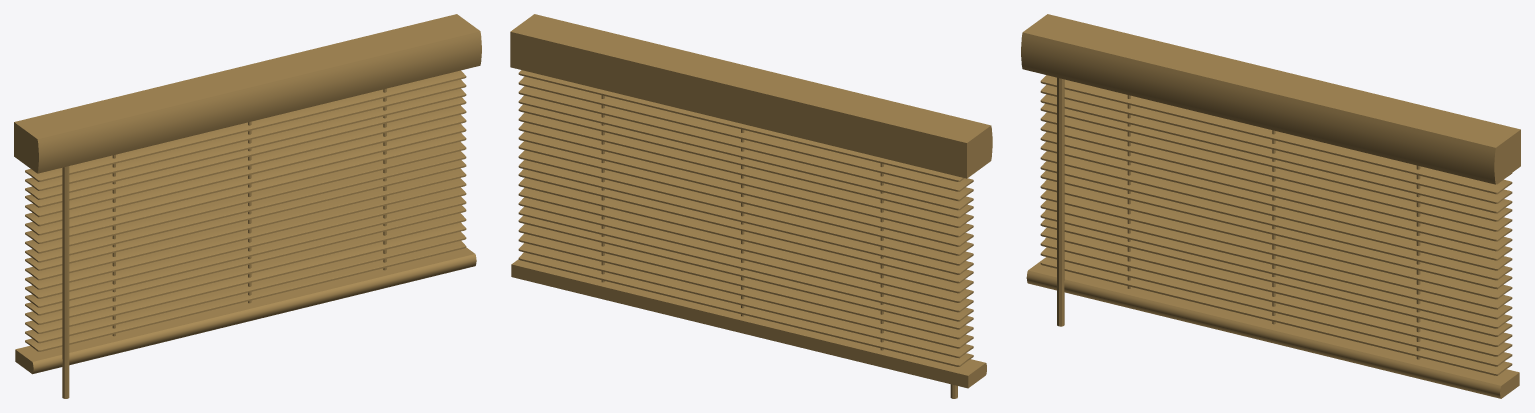
File: Curtain.fbx
The picture shows the model from 3 angles, left to right: view 1: azimuth 30°, elevation 25°; view 2: azimuth 150°, elevation 25°; view 3: azimuth 330°, elevation 25°; orthographic projection. The views are drawn at different scales.
Visible parts, largest first — view 1: RB_Top, RB_Bottom, RB_Plank_16, RB_Plank_39, RB_Plank_37, RB_Plank_35, RB_Plank_34, RB_Plank_23, RB_Plank_30, RB_Plank_15, RB_Plank_45, RB_Plank_14 (+12 smaller); view 2: RB_Top, RB_Bottom, RB_Plank_16, RB_Plank_35, RB_Plank_18, RB_Plank_34, RB_Plank_37, RB_Plank_39, RB_Plank_30, RB_Plank_23, RB_Plank_14, RB_Plank_33 (+12 smaller); view 3: RB_Top, RB_Bottom, RB_Plank_16, RB_Plank_34, RB_Plank_37, RB_Plank_39, RB_Plank_35, RB_Plank_30, RB_Plank_23, RB_Plank_33, RB_Plank_14, RB_Plank_45 (+12 smaller).
Part boxes in pixels (x1=…): RB_Top: x1=14, y1=14, x2=481, y2=173; RB_Bottom: x1=15, y1=247, x2=476, y2=374; RB_Plank_16: x1=25, y1=168, x2=466, y2=280; RB_Plank_39: x1=25, y1=105, x2=466, y2=217; RB_Plank_37: x1=25, y1=178, x2=466, y2=289; RB_Plank_35: x1=25, y1=213, x2=466, y2=324; RB_Plank_34: x1=25, y1=141, x2=466, y2=253; RB_Plank_23: x1=25, y1=123, x2=466, y2=235; RB_Plank_30: x1=25, y1=231, x2=466, y2=343; RB_Plank_15: x1=25, y1=79, x2=466, y2=190; RB_Plank_45: x1=25, y1=222, x2=466, y2=333; RB_Plank_14: x1=25, y1=187, x2=466, y2=298; RB_Top: x1=510, y1=14, x2=992, y2=178; RB_Bottom: x1=511, y1=259, x2=986, y2=388; RB_Plank_16: x1=518, y1=178, x2=973, y2=293; RB_Plank_35: x1=518, y1=224, x2=973, y2=339; RB_Plank_18: x1=518, y1=76, x2=973, y2=191; RB_Plank_34: x1=518, y1=150, x2=973, y2=265; RB_Plank_37: x1=518, y1=187, x2=973, y2=302; RB_Plank_39: x1=518, y1=112, x2=973, y2=227; RB_Plank_30: x1=518, y1=243, x2=973, y2=358; RB_Plank_23: x1=518, y1=132, x2=973, y2=246; RB_Plank_14: x1=518, y1=197, x2=973, y2=312; RB_Plank_33: x1=518, y1=122, x2=973, y2=237; RB_Top: x1=1021, y1=14, x2=1520, y2=184; RB_Bottom: x1=1026, y1=258, x2=1519, y2=398; RB_Plank_16: x1=1040, y1=180, x2=1512, y2=299; RB_Plank_34: x1=1040, y1=151, x2=1512, y2=270; RB_Plank_37: x1=1040, y1=190, x2=1512, y2=309; RB_Plank_39: x1=1040, y1=112, x2=1512, y2=231; RB_Plank_35: x1=1040, y1=227, x2=1512, y2=346; RB_Plank_30: x1=1040, y1=247, x2=1512, y2=366; RB_Plank_23: x1=1040, y1=132, x2=1512, y2=251; RB_Plank_33: x1=1040, y1=122, x2=1512, y2=241; RB_Plank_14: x1=1040, y1=200, x2=1512, y2=319; RB_Plank_45: x1=1040, y1=237, x2=1512, y2=356.
Bounding box in the file's own units: 131 × 75.94 × 12.77.
